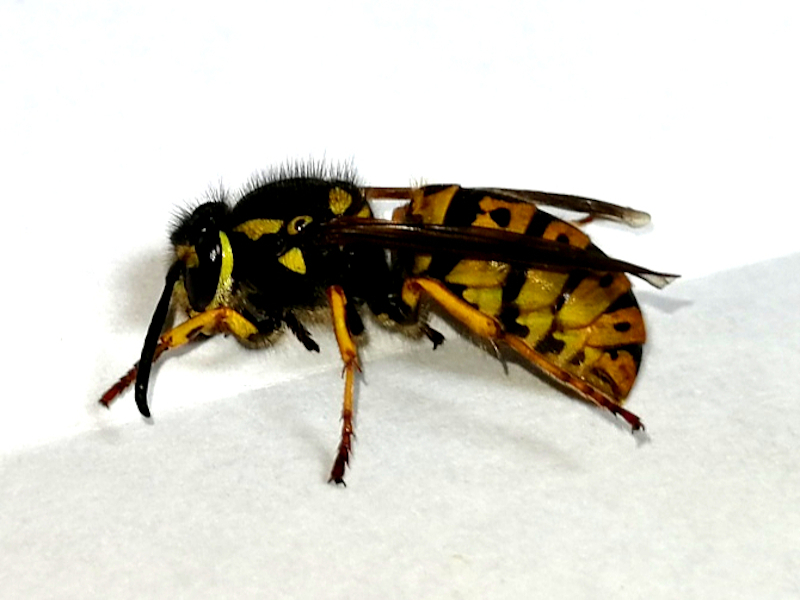chax: (97, 149, 696, 494)
